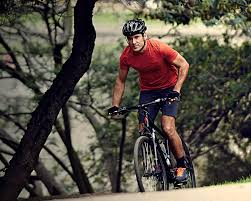helmet: (120, 17, 146, 34)
